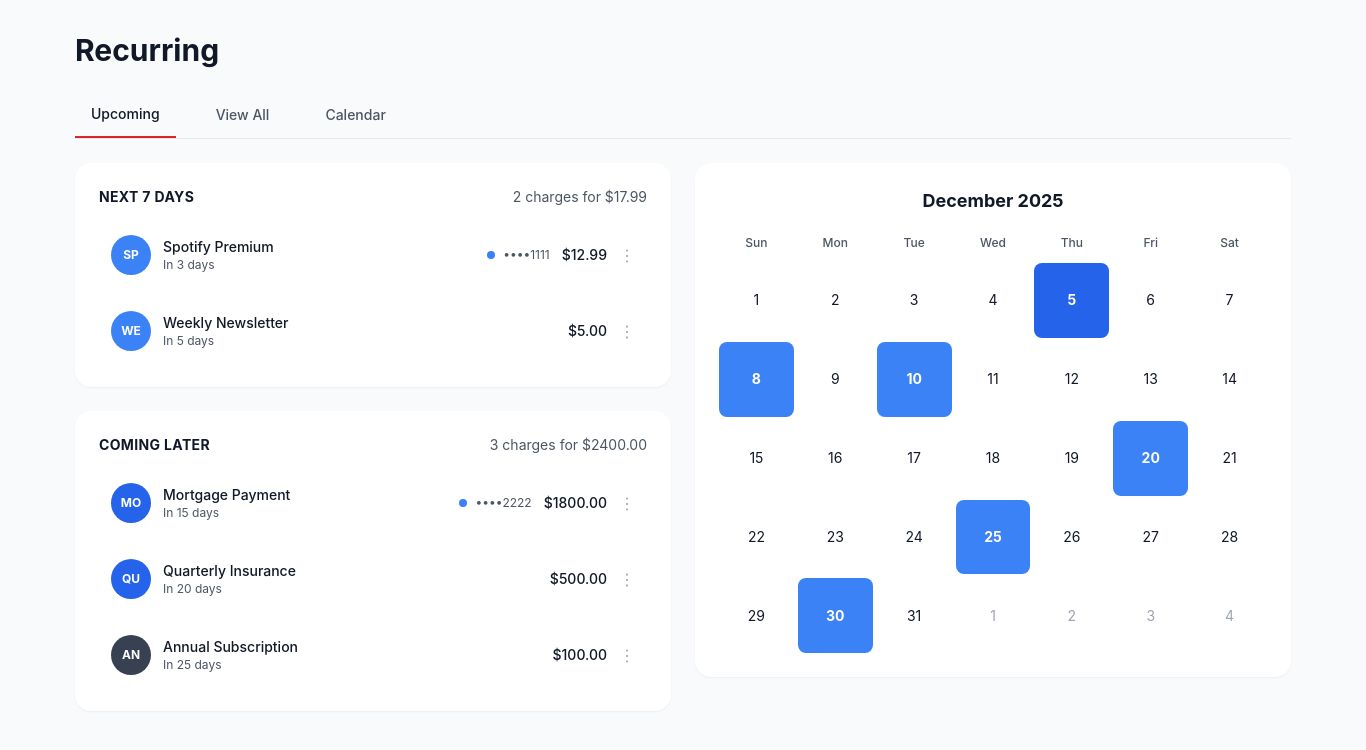
Scenario: Recurring page › toggles sort dropdown
Expected: the heading "Recurring" is shown, [75,32,219,68]
Click the button "View All": (242, 115) [200,92,285,138]
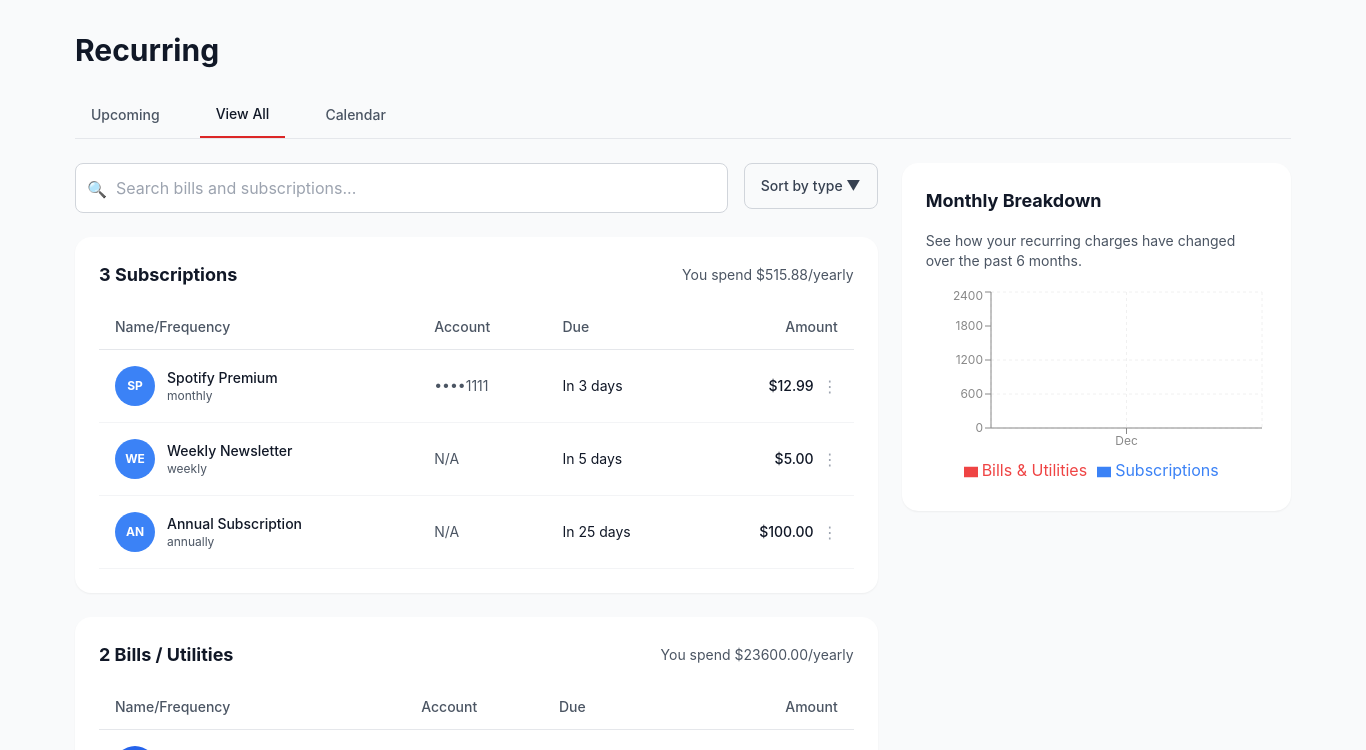
Result: the button "Sort by type ▼" is shown
// Click sort dropdown
Click the button "Sort by type ▼": (811, 186) [744,163,878,209]
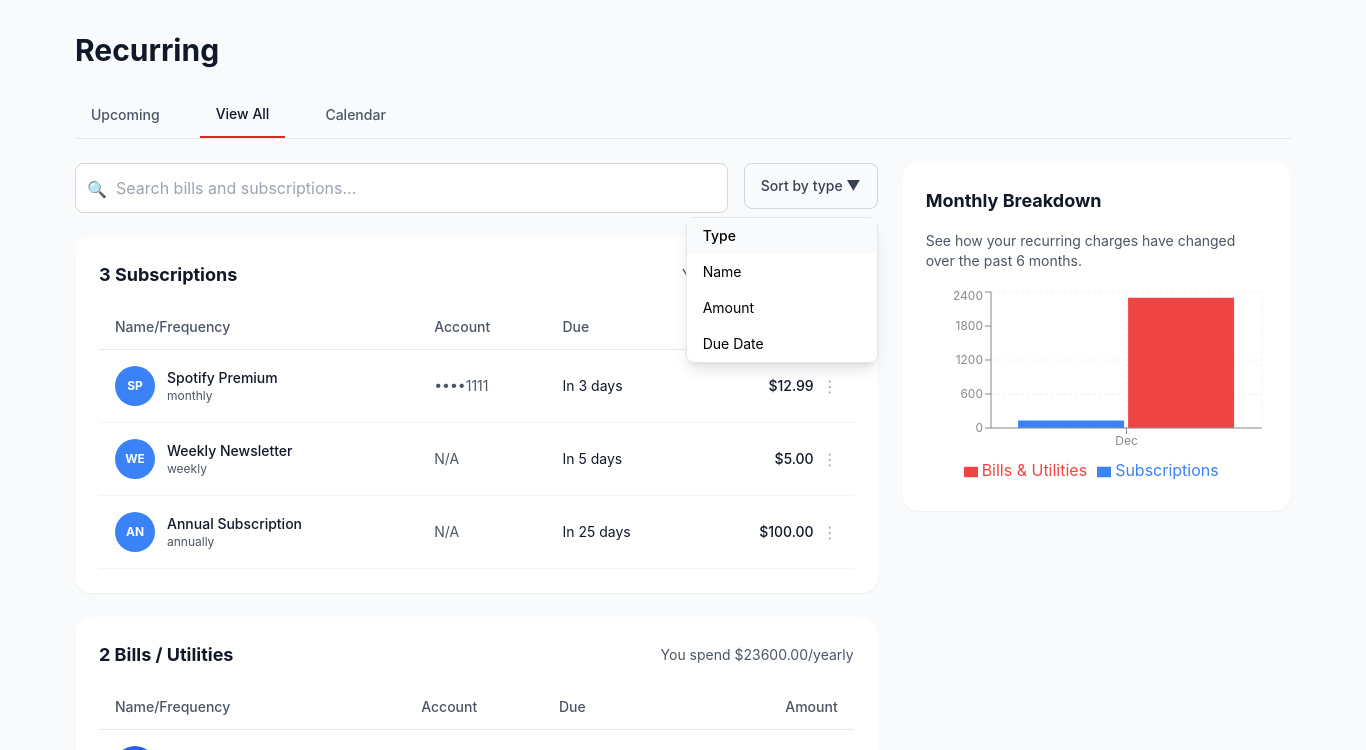
Result: the button "Name" is shown at [687,254,877,290]
